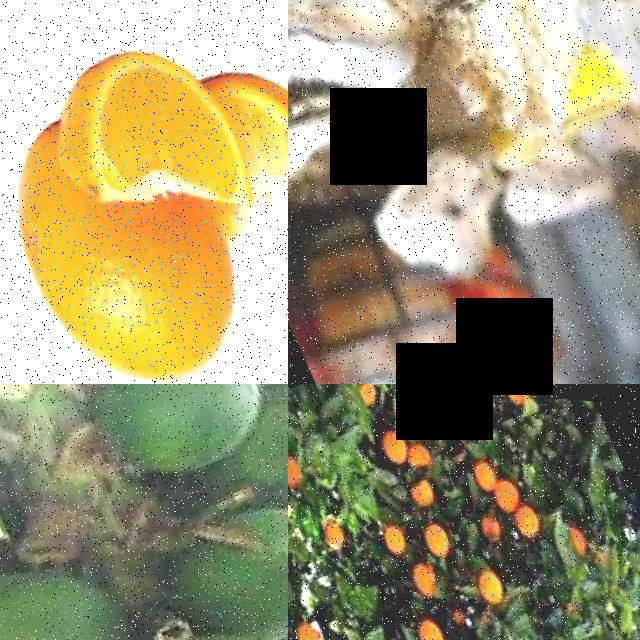orange: (23, 9, 267, 276), (15, 166, 276, 384), (198, 18, 288, 213), (470, 555, 511, 605), (508, 490, 548, 538), (406, 549, 445, 597), (418, 509, 456, 558), (374, 417, 413, 463), (489, 467, 527, 509), (409, 605, 451, 640), (378, 511, 411, 555), (468, 450, 502, 489), (495, 384, 538, 405)
oysters: (357, 121, 540, 315), (288, 0, 440, 152)
pawpaw: (148, 455, 288, 640), (65, 384, 283, 501), (0, 520, 158, 640)
